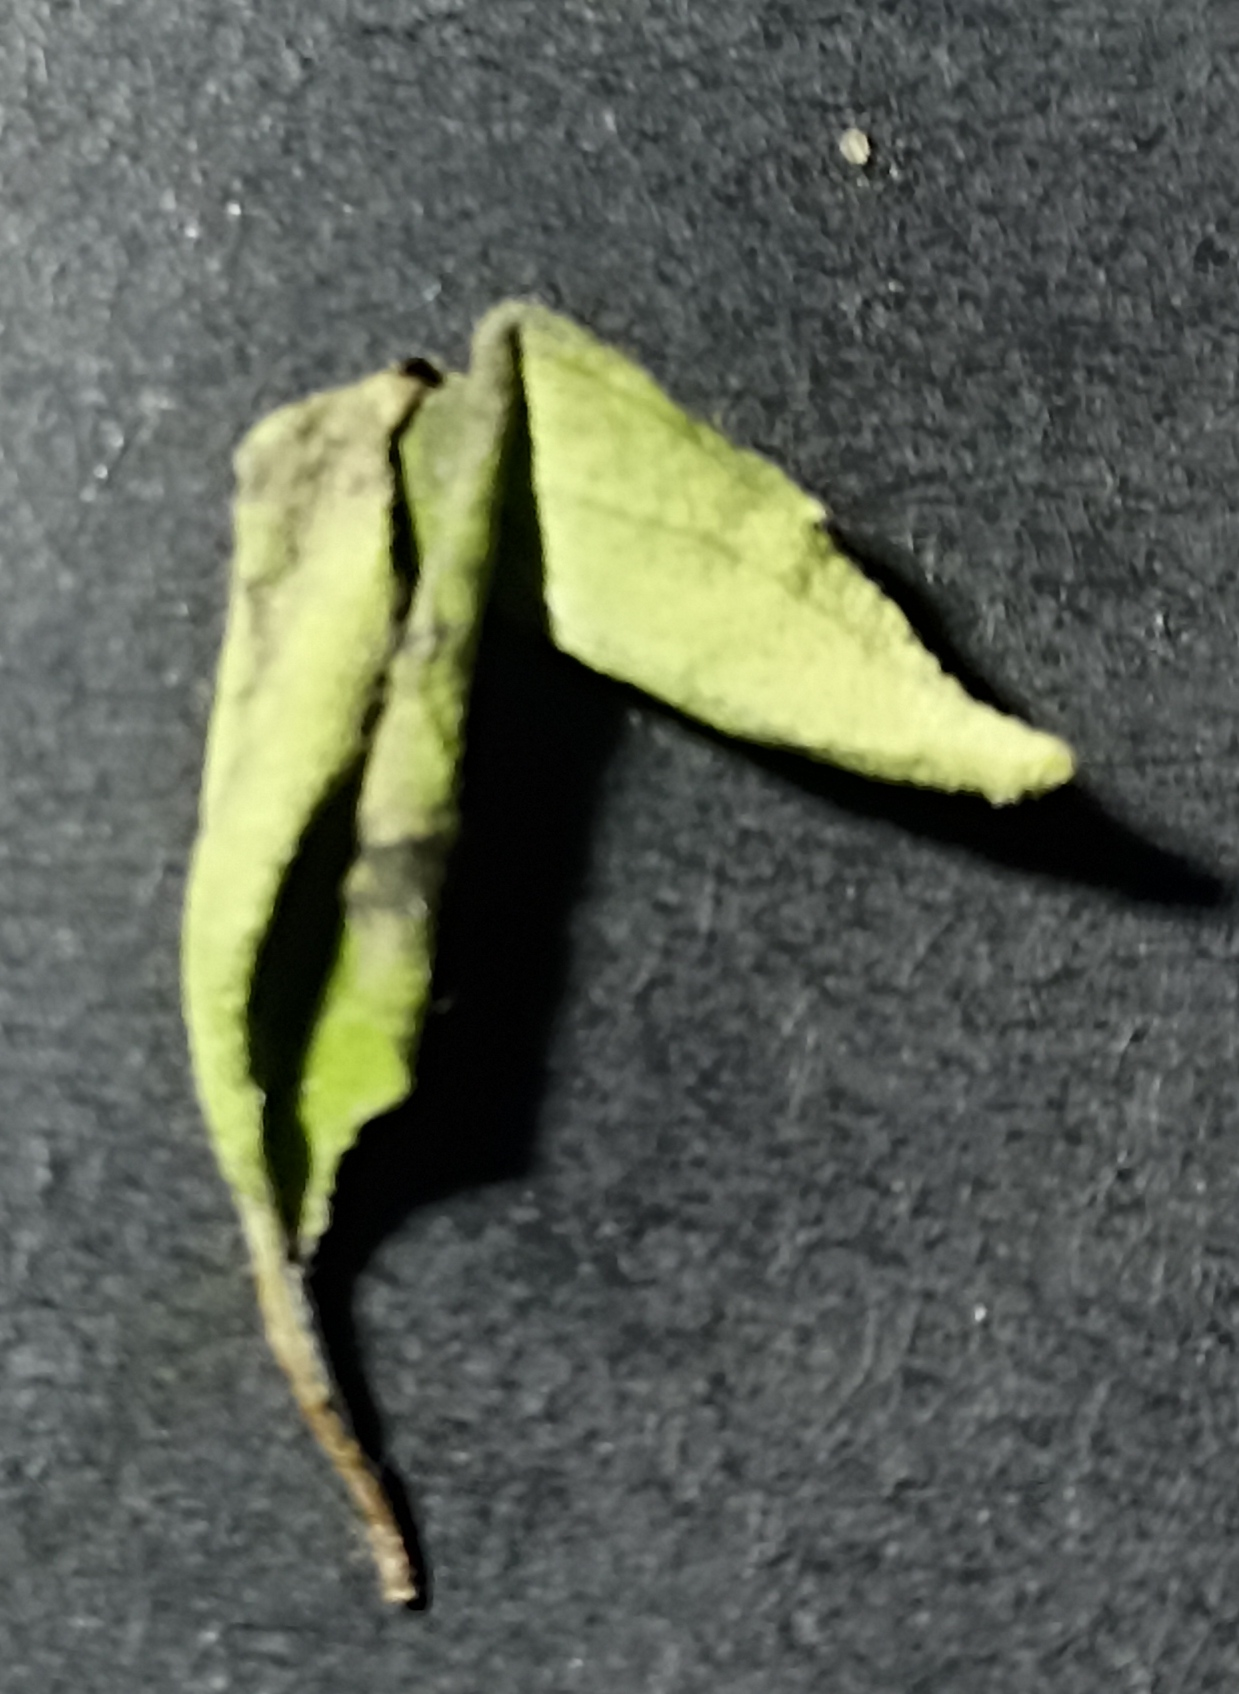Unhealthy: (134, 294, 1106, 1296)
